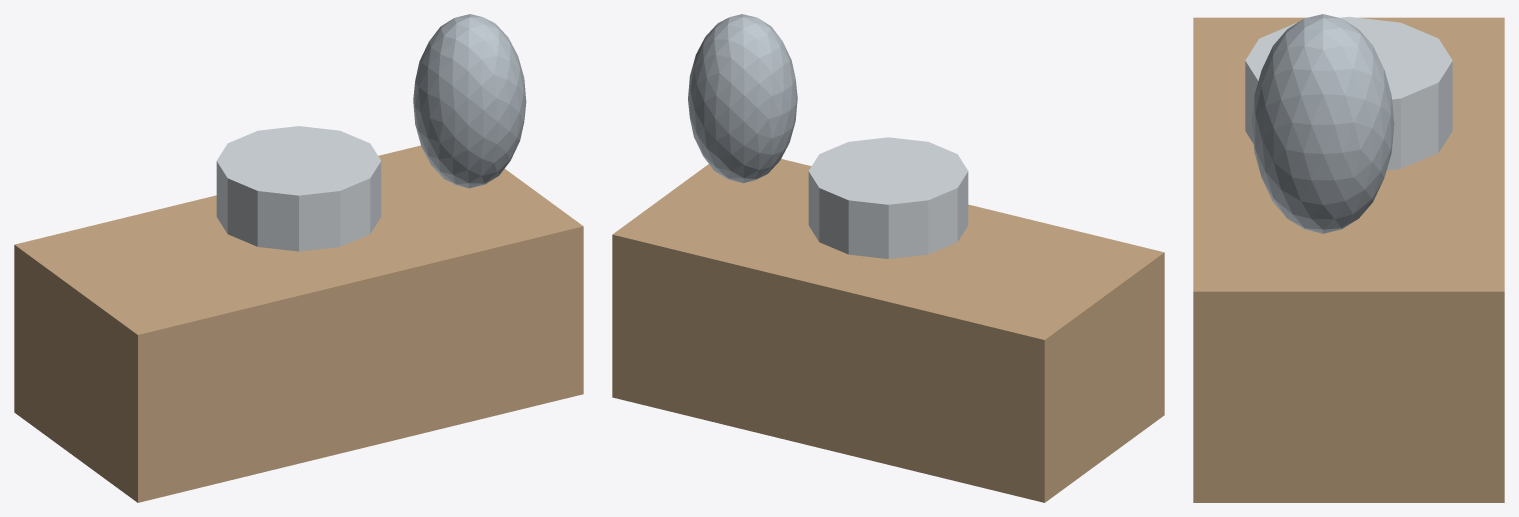
File: mostrador_compraventa.glb
The picture shows the model from 3 angles, left to right: view 1: azimuth 30°, elevation 25°; view 2: azimuth 150°, elevation 25°; view 3: azimuth 270°, elevation 25°; orthographic projection. The views are drawn at different scales.
Parts seen in each view (by area): view 1: mostrador, bascula, tendera; view 2: mostrador, bascula, tendera; view 3: mostrador, tendera, bascula.
Boxes of the visible parts, left/top/right/bottom form: mostrador: left=14, top=145, right=583, bottom=502; bascula: left=216, top=126, right=381, bottom=251; tendera: left=413, top=14, right=526, bottom=188; mostrador: left=612, top=159, right=1164, bottom=502; bascula: left=808, top=137, right=968, bottom=258; tendera: left=688, top=14, right=797, bottom=183; mostrador: left=1193, top=17, right=1504, bottom=502; tendera: left=1251, top=14, right=1394, bottom=233; bascula: left=1245, top=16, right=1452, bottom=170.
Size of the model in its own units: 0.5 by 0.38 by 0.24.
